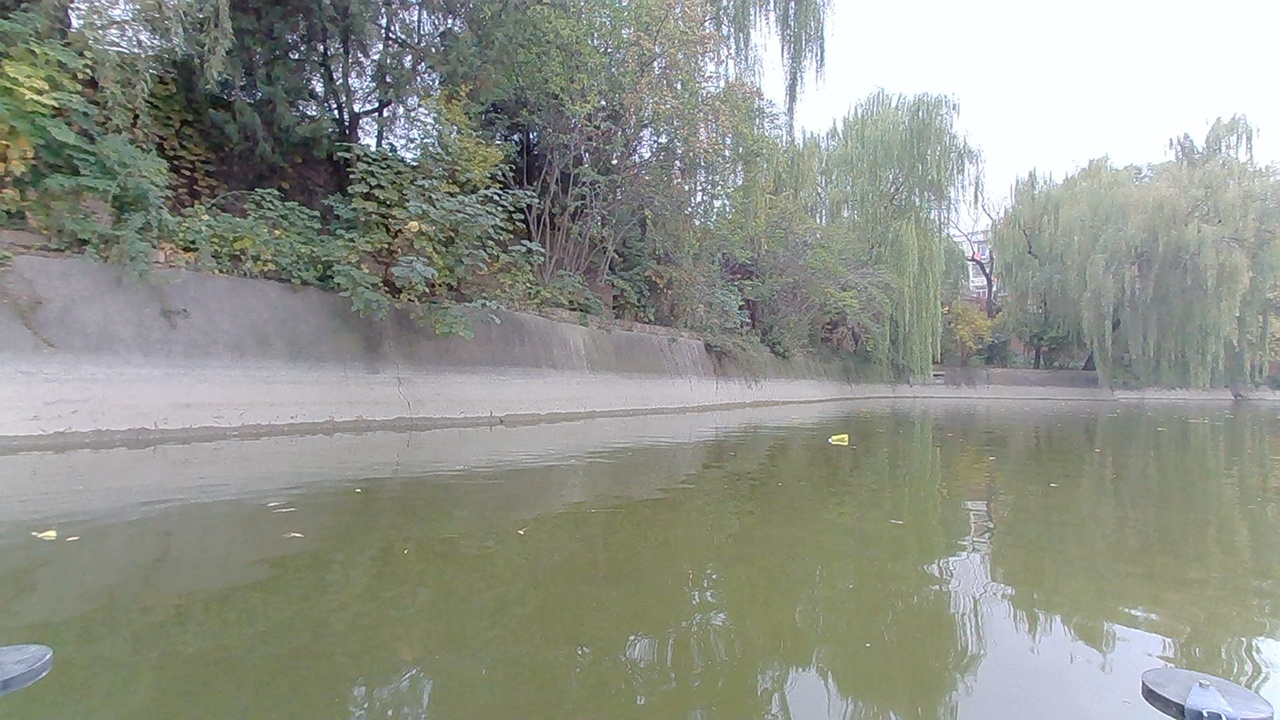bottle: (822, 428, 856, 451)
